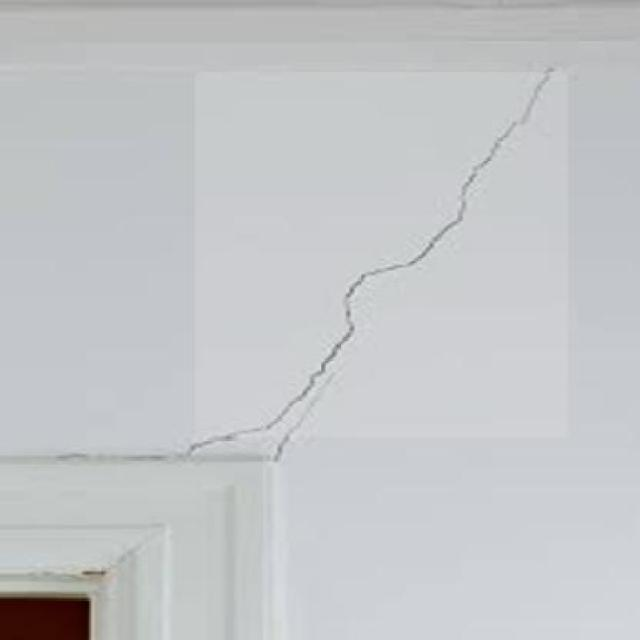Crack: (195, 70, 571, 457)
